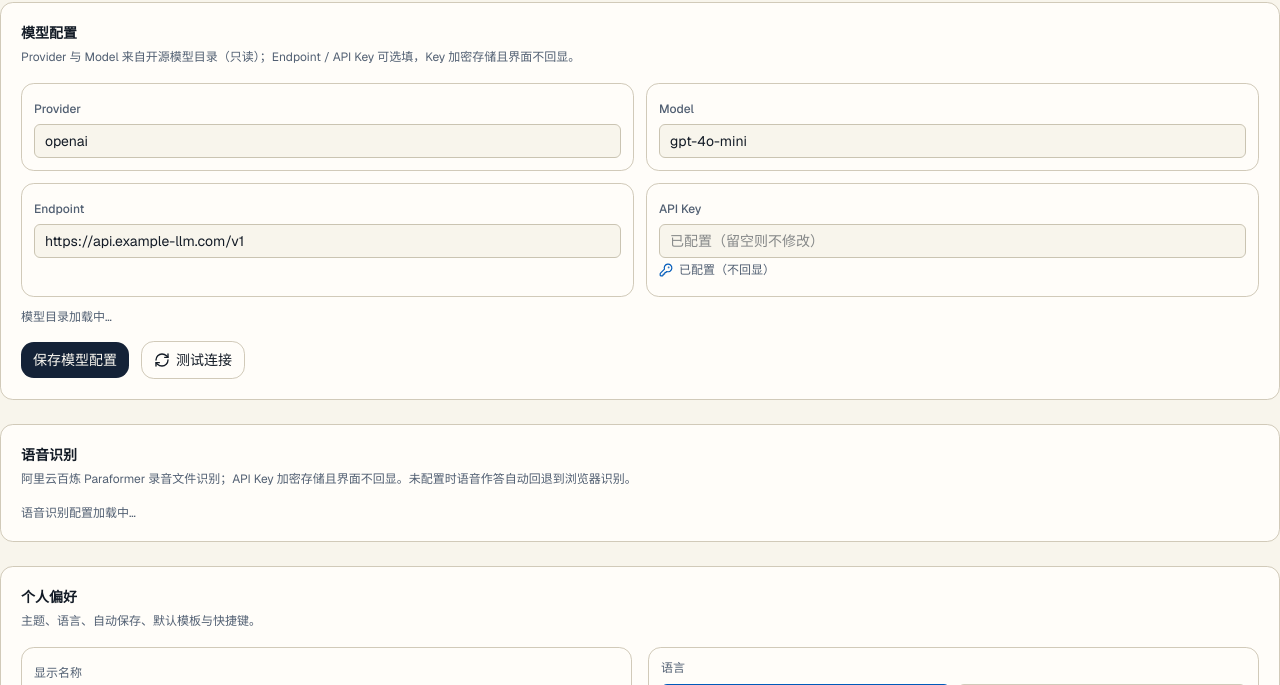
Test: SettingsForm › 业务失败态仍显示后端返回的业务原文
(page scrolled)
Click the button "测试连接". click: coordinates (193, 360)
box: x1=141 y1=341 x2=245 y2=379
(page scrolled)
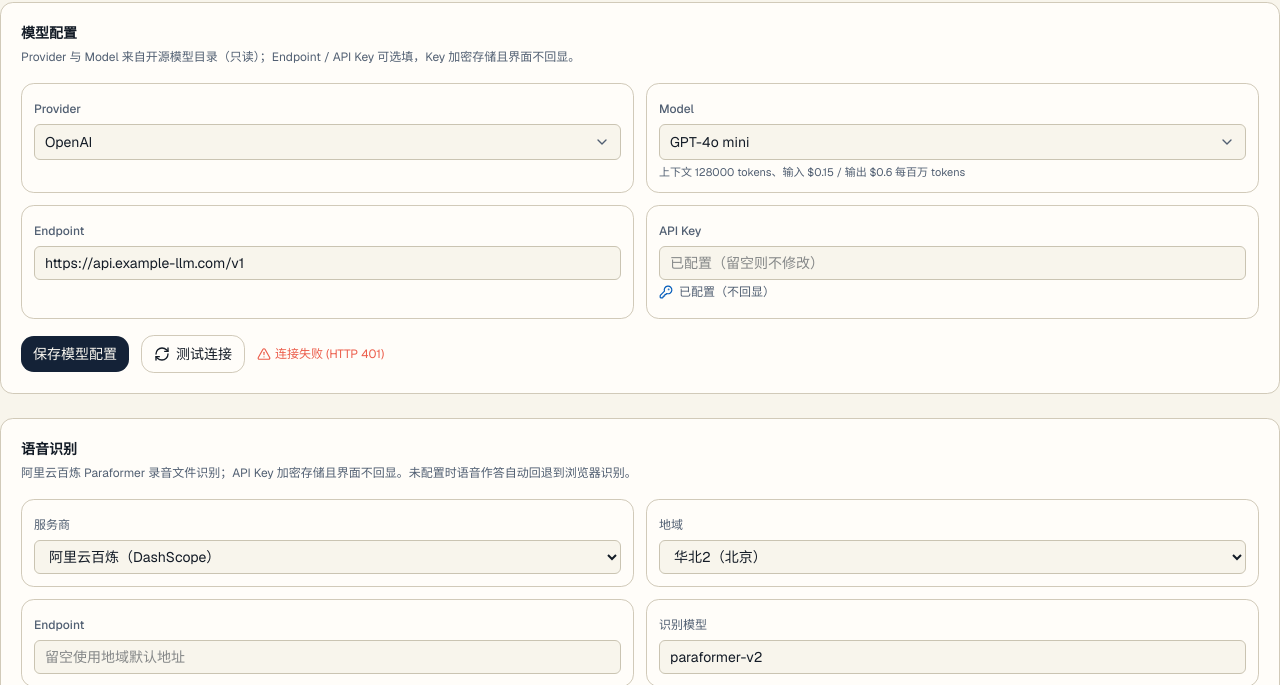
expect the text "连接失败 (HTTP 401)" is shown: met, box x1=257 y1=346 x2=384 y2=362
